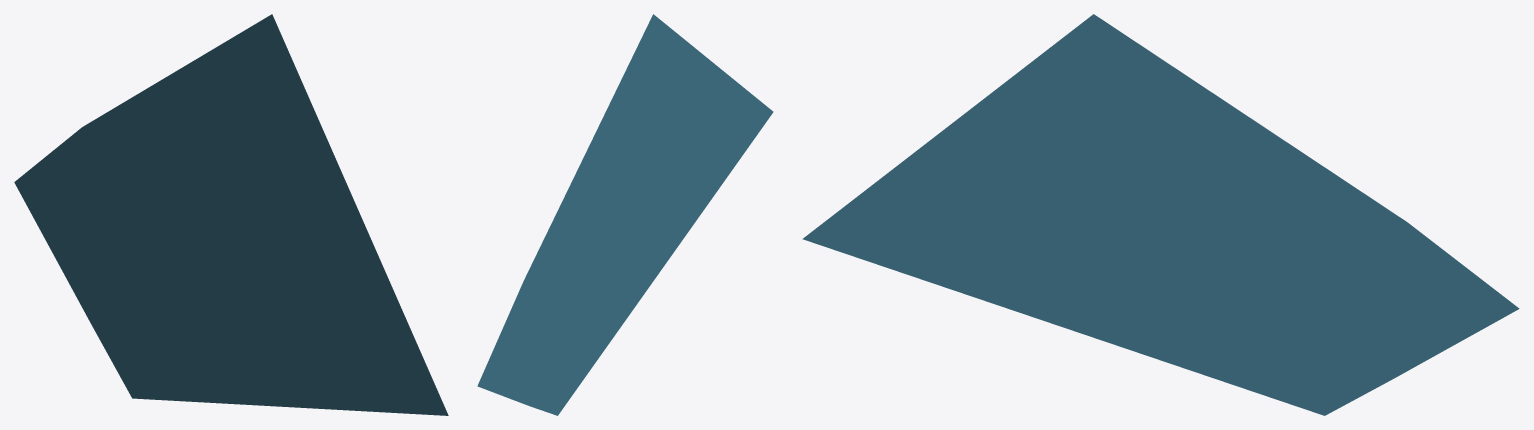
File: NexusC_Cloth_13.fbx
3 views of the same model, side by side, from view 1: azimuth 30°, elevation 25°; view 2: azimuth 150°, elevation 25°; view 3: azimuth 270°, elevation 25° (orthographic). The views are drawn at different scales.
Parts seen in each view (by area): view 1: polySurface73; view 2: polySurface73; view 3: polySurface73.
Boxes of the visible parts, <box> form: polySurface73: <box>14,14,448,415</box>; polySurface73: <box>477,14,773,415</box>; polySurface73: <box>802,14,1519,415</box>.
Bounding box in the file's own units: 0 × 22.05 × 35.67.
